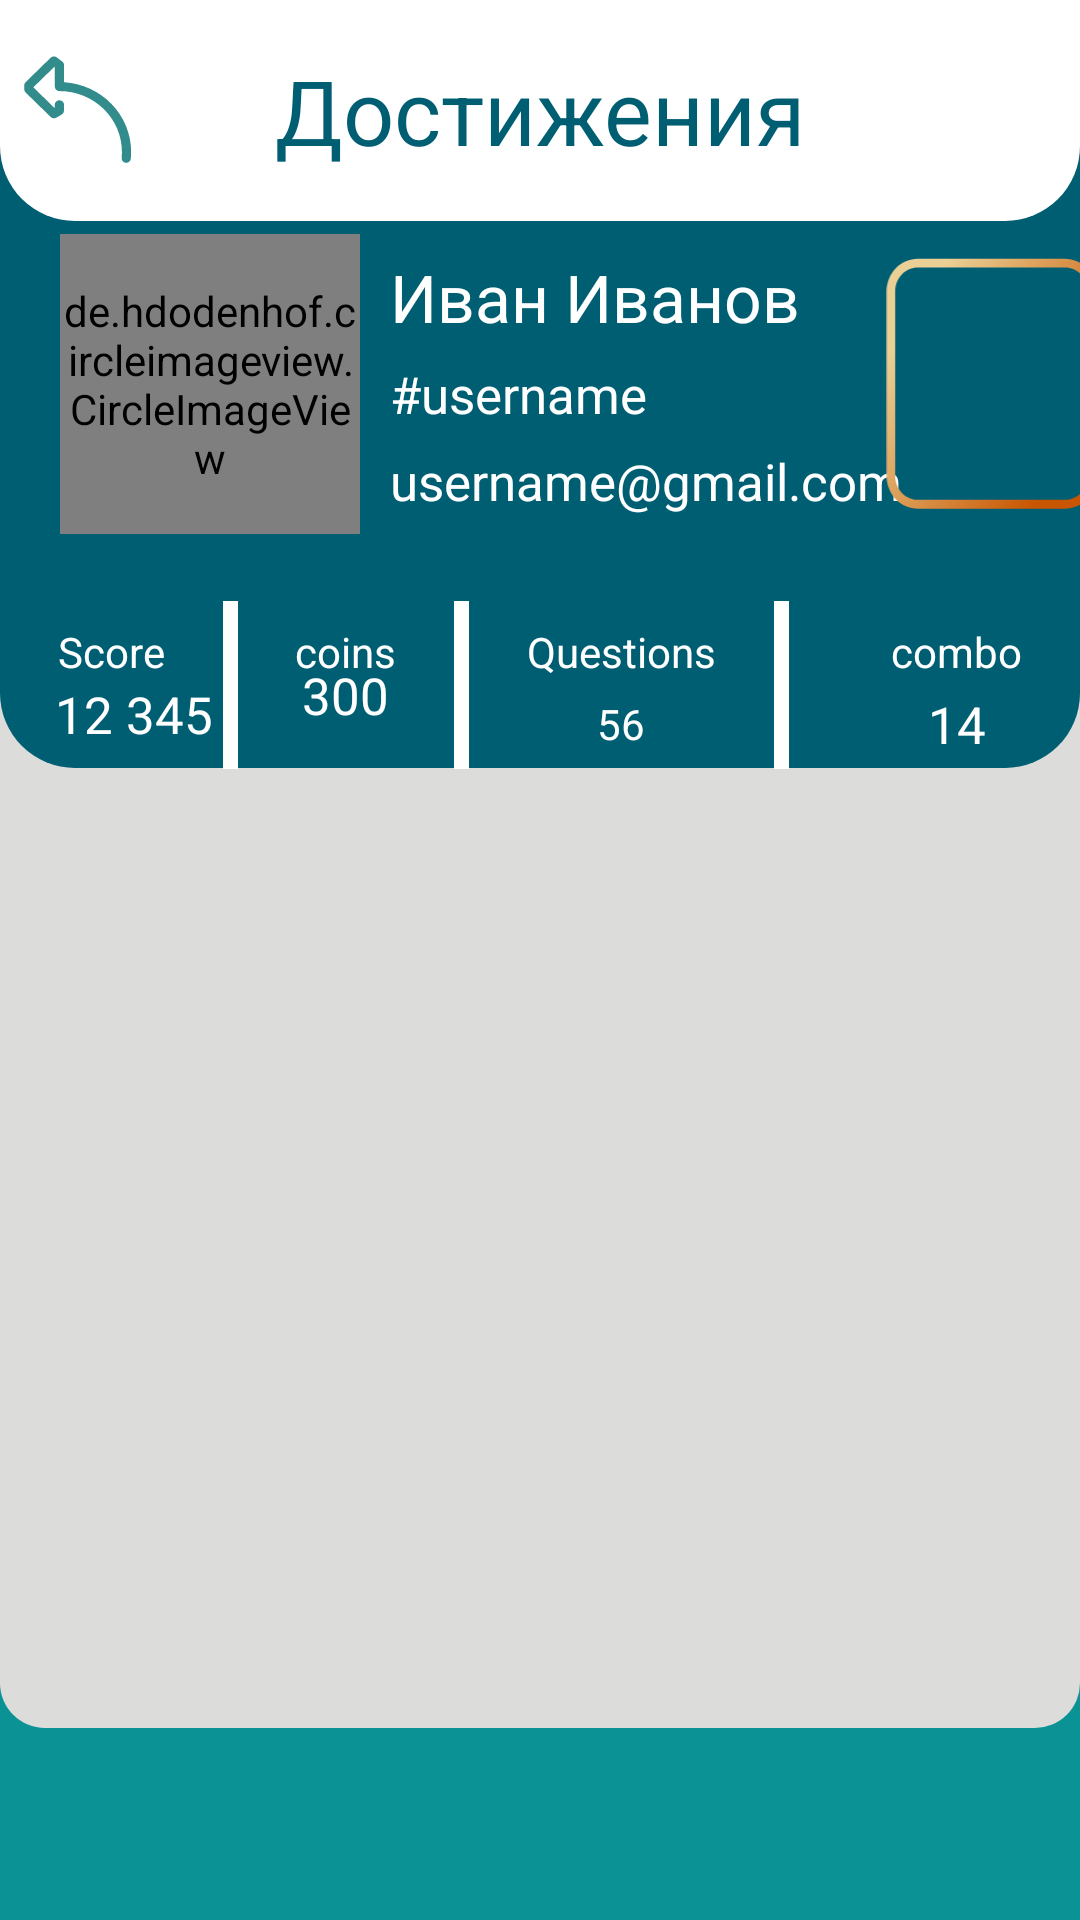

Icons on this 1080px×1920px Android screen, each with its box as (x1, y1, x2, y2):
back: (24, 56, 131, 163)
